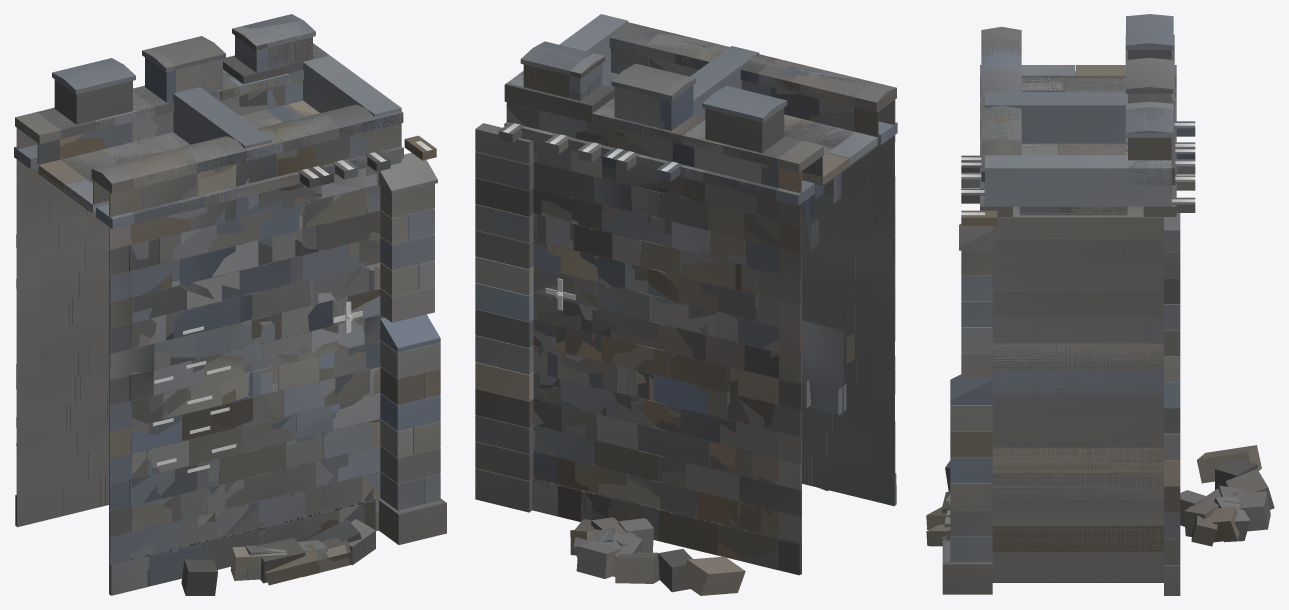
3 views of the same model, side by side, from view 1: azimuth 30°, elevation 25°; view 2: azimuth 150°, elevation 25°; view 3: azimuth 270°, elevation 25° (orthographic).
Visible parts, largest first — view 1: PW_EX_impact_5p00_Stone_LOD2, PW_EX_siege_5p40_sn_Stone_LOD2, PW_EX_intact_a_5p00_Stone_LOD2, PW_EX_merlons_5p00_Stone_LOD2, PW_EX_fill_2p90_sn_ee_Stone_LOD2, PW_EX_siege_4p10_Stone_LOD2, PW_EX_repair_5p00_Stone_LOD2, PW_EX_intact_b_5p00_Stone_LOD2, PW_EX_fill_1p20_se_Stone_LOD2, PW_EX_gate_1p60_sn_Stone_LOD2, PW_EX_repair_5p00_Kit_LOD2; view 2: PW_EX_impact_5p00_Stone_LOD2, PW_EX_siege_5p40_sn_Stone_LOD2, PW_EX_intact_a_5p00_Stone_LOD2, PW_EX_merlons_5p00_Stone_LOD2, PW_EX_repair_5p00_Stone_LOD2, PW_EX_intact_b_5p00_Stone_LOD2, PW_EX_fill_2p90_sn_ee_Stone_LOD2, PW_EX_siege_4p10_Stone_LOD2, PW_EX_gate_1p60_sn_Stone_LOD2, PW_EX_fill_1p20_se_Stone_LOD2; view 3: PW_EX_fill_1p20_se_Stone_LOD2, PW_EX_impact_5p00_Stone_LOD2, PW_EX_fill_2p90_sn_ee_Stone_LOD2, PW_EX_siege_5p40_sn_Stone_LOD2, PW_EX_merlons_5p00_Stone_LOD2, PW_EX_siege_4p10_Stone_LOD2, PW_EX_intact_b_5p00_Stone_LOD2, PW_EX_intact_a_5p00_Stone_LOD2, PW_EX_gate_1p60_sn_Stone_LOD2, PW_EX_repair_5p00_Stone_LOD2.
Part boxes in pixels (<box>): PW_EX_impact_5p00_Stone_LOD2: <box>37,36,446,586</box>; PW_EX_siege_5p40_sn_Stone_LOD2: <box>14,70,400,595</box>; PW_EX_intact_a_5p00_Stone_LOD2: <box>38,74,401,569</box>; PW_EX_merlons_5p00_Stone_LOD2: <box>40,44,402,595</box>; PW_EX_fill_2p90_sn_ee_Stone_LOD2: <box>153,15,403,532</box>; PW_EX_siege_4p10_Stone_LOD2: <box>87,78,403,572</box>; PW_EX_repair_5p00_Stone_LOD2: <box>38,71,402,569</box>; PW_EX_intact_b_5p00_Stone_LOD2: <box>40,70,401,556</box>; PW_EX_fill_1p20_se_Stone_LOD2: <box>243,14,436,529</box>; PW_EX_gate_1p60_sn_Stone_LOD2: <box>223,43,403,522</box>; PW_EX_repair_5p00_Kit_LOD2: <box>182,301,362,473</box>; PW_EX_impact_5p00_Stone_LOD2: <box>475,23,874,595</box>; PW_EX_siege_5p40_sn_Stone_LOD2: <box>533,51,897,592</box>; PW_EX_intact_a_5p00_Stone_LOD2: <box>522,29,873,538</box>; PW_EX_merlons_5p00_Stone_LOD2: <box>523,24,865,583</box>; PW_EX_repair_5p00_Stone_LOD2: <box>524,27,868,560</box>; PW_EX_intact_b_5p00_Stone_LOD2: <box>506,31,873,569</box>; PW_EX_fill_2p90_sn_ee_Stone_LOD2: <box>505,23,759,511</box>; PW_EX_siege_4p10_Stone_LOD2: <box>530,27,823,576</box>; PW_EX_gate_1p60_sn_Stone_LOD2: <box>504,26,676,521</box>; PW_EX_fill_1p20_se_Stone_LOD2: <box>498,14,666,488</box>; PW_EX_fill_1p20_se_Stone_LOD2: <box>961,107,1195,582</box>; PW_EX_impact_5p00_Stone_LOD2: <box>941,14,1261,595</box>; PW_EX_fill_2p90_sn_ee_Stone_LOD2: <box>961,63,1195,212</box>; PW_EX_siege_5p40_sn_Stone_LOD2: <box>926,26,1270,546</box>; PW_EX_merlons_5p00_Stone_LOD2: <box>926,38,1274,540</box>; PW_EX_siege_4p10_Stone_LOD2: <box>928,78,1250,542</box>; PW_EX_intact_b_5p00_Stone_LOD2: <box>980,38,1195,212</box>; PW_EX_intact_a_5p00_Stone_LOD2: <box>980,38,1176,212</box>; PW_EX_gate_1p60_sn_Stone_LOD2: <box>980,126,1175,213</box>; PW_EX_repair_5p00_Stone_LOD2: <box>980,39,1174,212</box>.
Size of the model in its own units: 5.9 by 8.15 by 5.6.
